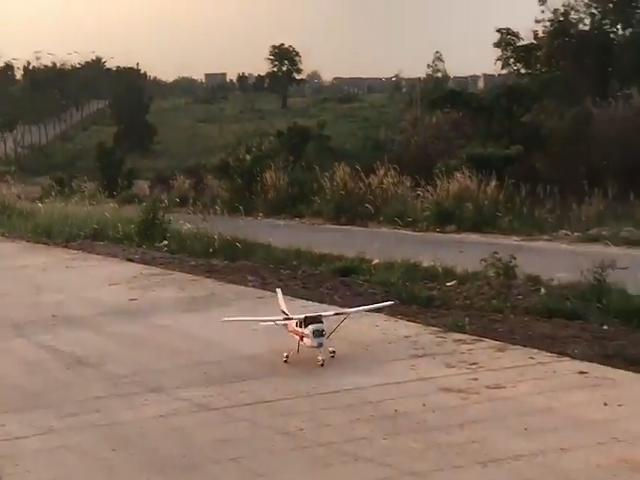plane: (223, 288, 394, 365)
